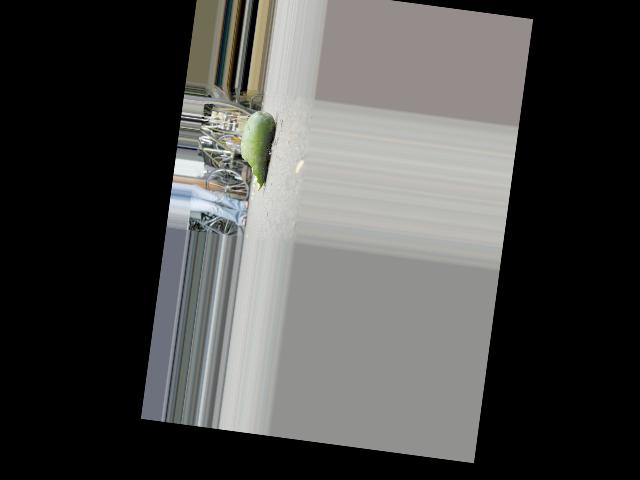cucumber: (235, 109, 276, 193)
